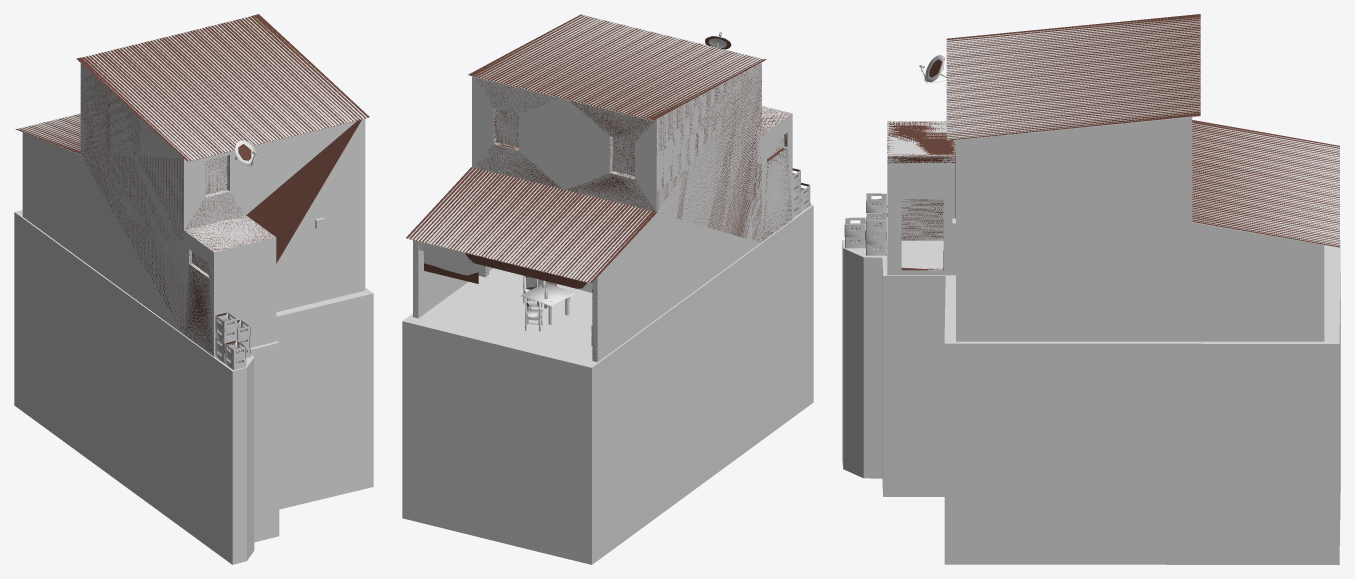
Rendered from CASA15.fbx.
The picture shows the model from 3 angles, left to right: view 1: azimuth 30°, elevation 25°; view 2: azimuth 150°, elevation 25°; view 3: azimuth 270°, elevation 25°; orthographic projection. The views are drawn at different scales.
Parts seen in each view (by area): view 1: CASA15_LOD0, CUBE_LOD0, UTM_CASA15; view 2: CUBE_LOD0, CASA15_LOD0, UTM_CASA15; view 3: CUBE_LOD0, CASA15_LOD0, UTM_CASA15.
Part boxes in pixels (box(x1,y1,x2,y2)): CASA15_LOD0: box(17, 15, 369, 369); CUBE_LOD0: box(14, 210, 373, 564); UTM_CASA15: box(15, 14, 369, 369); CUBE_LOD0: box(402, 204, 813, 564); CASA15_LOD0: box(405, 14, 810, 362); UTM_CASA15: box(406, 14, 810, 360); CUBE_LOD0: box(842, 240, 1340, 564); CASA15_LOD0: box(845, 17, 1339, 341); UTM_CASA15: box(844, 14, 1339, 270).
Size of what is drawn, in the model's own units: 616 by 1235 by 1246.
